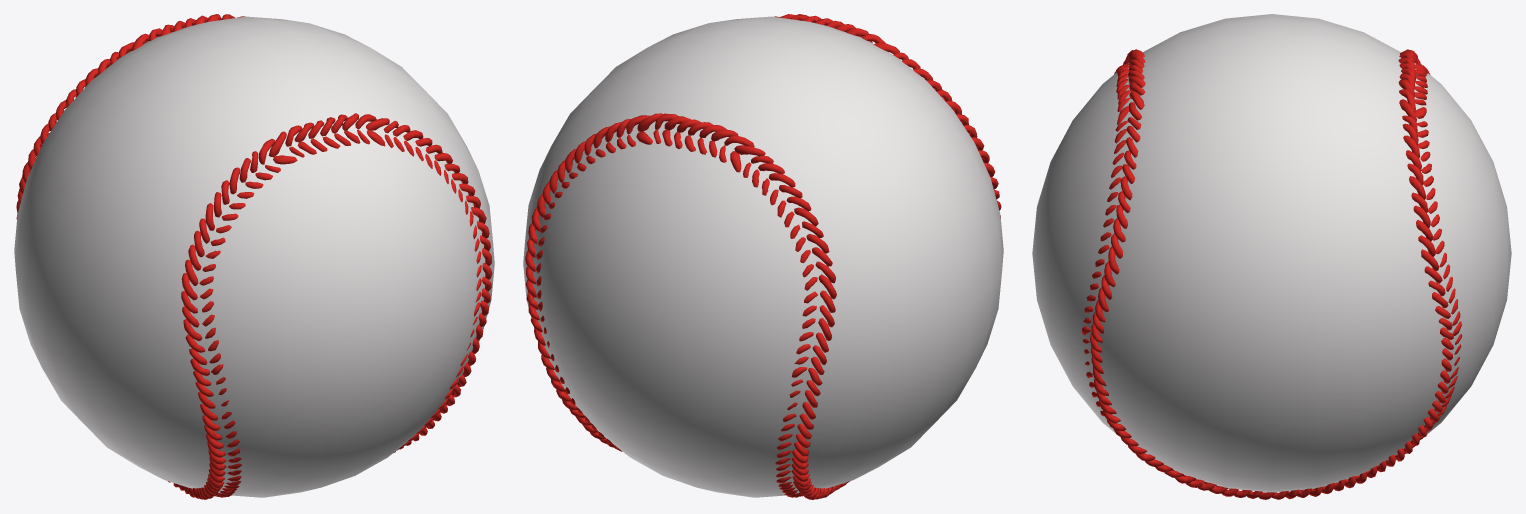
File: baseball.fbx
The picture shows the model from 3 angles, left to right: view 1: azimuth 30°, elevation 25°; view 2: azimuth 150°, elevation 25°; view 3: azimuth 270°, elevation 25°; orthographic projection.
Visible parts, largest first — view 1: Baseball, Stitches; view 2: Baseball, Stitches; view 3: Baseball, Stitches.
Part boxes in pixels (x1,y1,x2,y2): Baseball: (14, 16, 494, 497); Stitches: (16, 14, 492, 499); Baseball: (523, 16, 1003, 497); Stitches: (525, 14, 1001, 499); Baseball: (1032, 14, 1511, 492); Stitches: (1082, 49, 1461, 499).
Size of the model in its own units: 0.3922 by 0.3922 by 0.3922.
